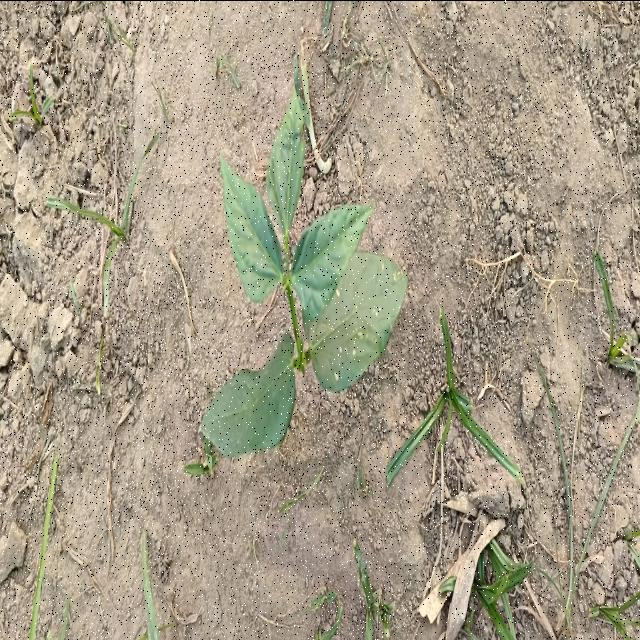plant: (201, 90, 408, 458)
